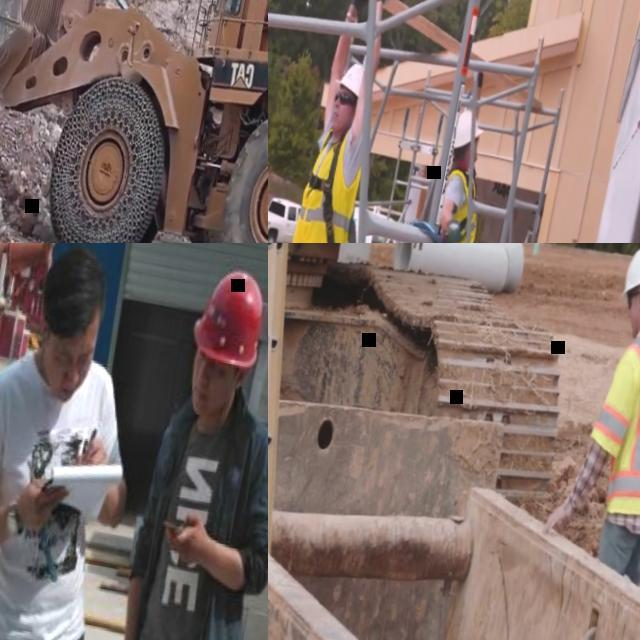Helmet: (194, 258, 272, 372), (333, 58, 378, 105), (444, 112, 484, 158), (614, 248, 640, 302)
Robbery: (0, 260, 133, 640), (141, 252, 269, 640), (558, 240, 640, 591), (284, 59, 384, 251), (423, 109, 499, 243)
